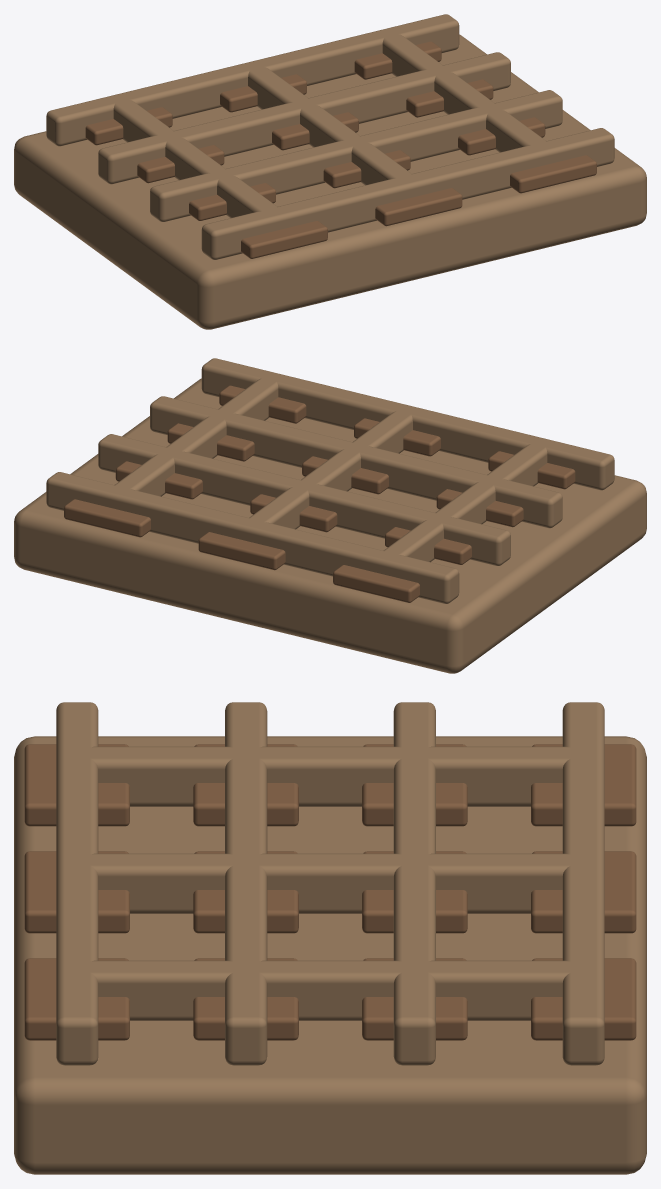
File: chocolate-making-and-confectionery-praline-cavity-moul-93a8a539__39154.glb
The picture shows the model from 3 angles, top to bottom: view 1: azimuth 30°, elevation 25°; view 2: azimuth 150°, elevation 25°; view 3: azimuth 270°, elevation 25°; orthographic projection. The views are drawn at different scales.
Parts seen in each view (by area): view 1: praline-cavity-mould; view 2: praline-cavity-mould; view 3: praline-cavity-mould.
Part boxes in pixels (x1,y1,x2,y2): praline-cavity-mould: (14,14,646,329); praline-cavity-mould: (14,358,646,673); praline-cavity-mould: (14,702,646,1174).
Bounding box in the file's own units: 0.4 × 0.075 × 0.3.
